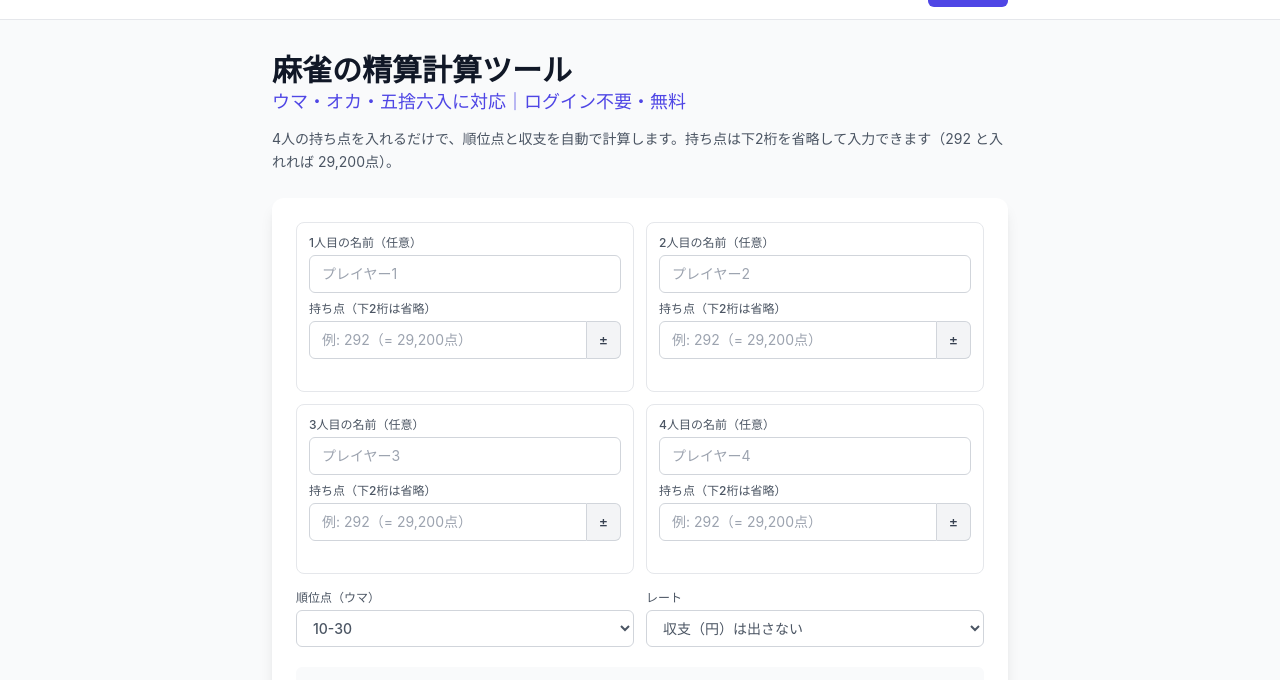
it: Landing（ログイン不要の精算計算ツール） › 「持ち点をクリア」で結果が消える
Step 1. Type "360" into the 1st field labelled "持ち点（下2桁は省略）" → coordinates (448, 340), box top-left (309, 320), bottom-right (587, 358)
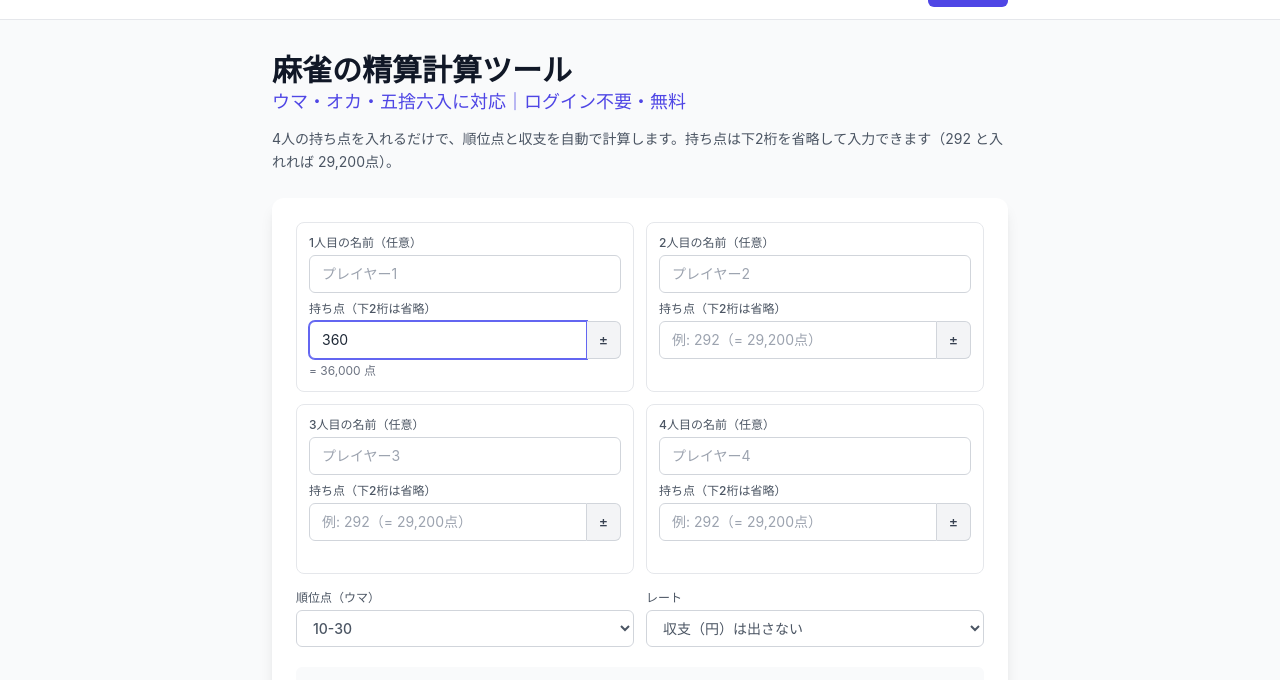
Step 2. Type "490" into the 2nd field labelled "持ち点（下2桁は省略）" → coordinates (798, 340), box top-left (659, 320), bottom-right (937, 358)
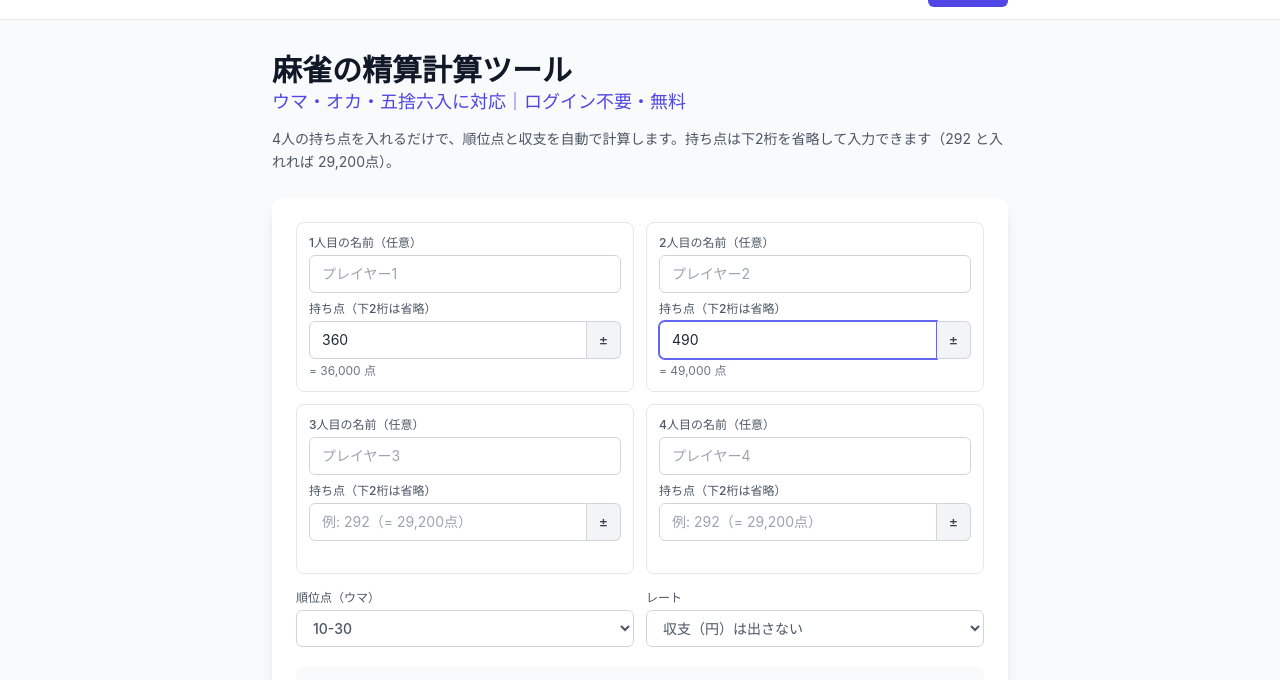
Step 3. Type "200" into the 3rd field labelled "持ち点（下2桁は省略）" → coordinates (448, 522), box top-left (309, 502), bottom-right (587, 540)
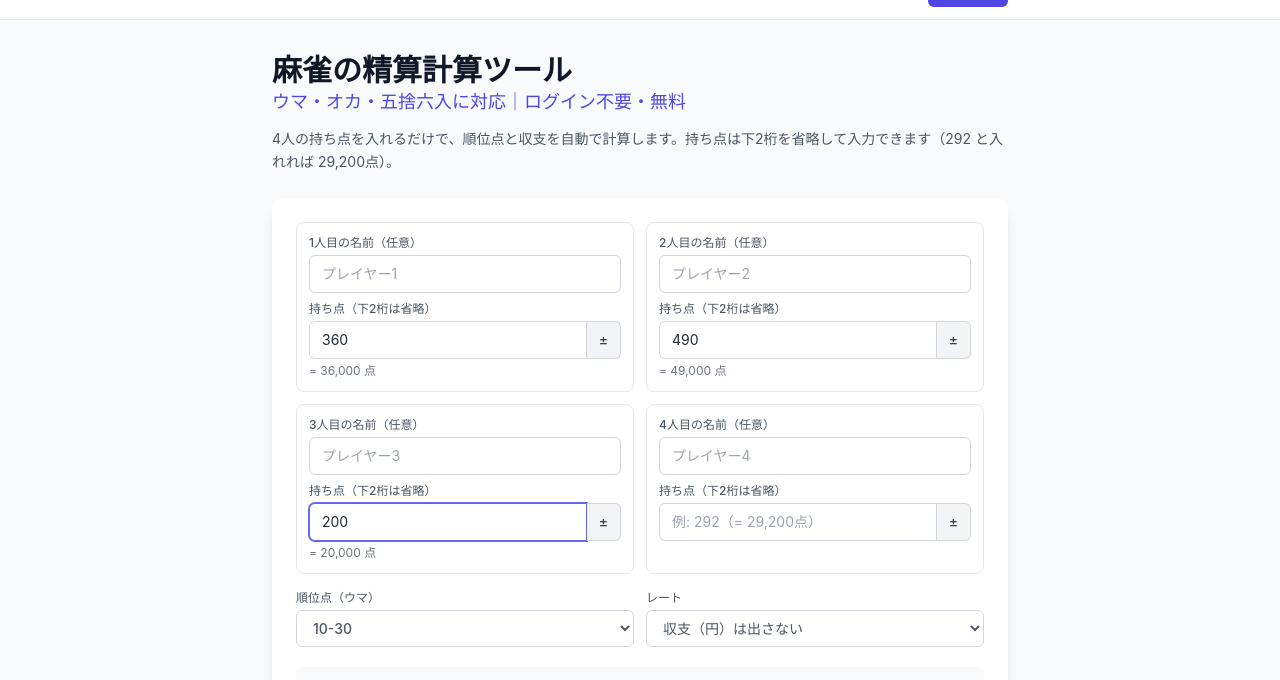
Step 4. Type "-50" into the 4th field labelled "持ち点（下2桁は省略）" → coordinates (798, 522), box top-left (659, 502), bottom-right (937, 540)
(page scrolled)
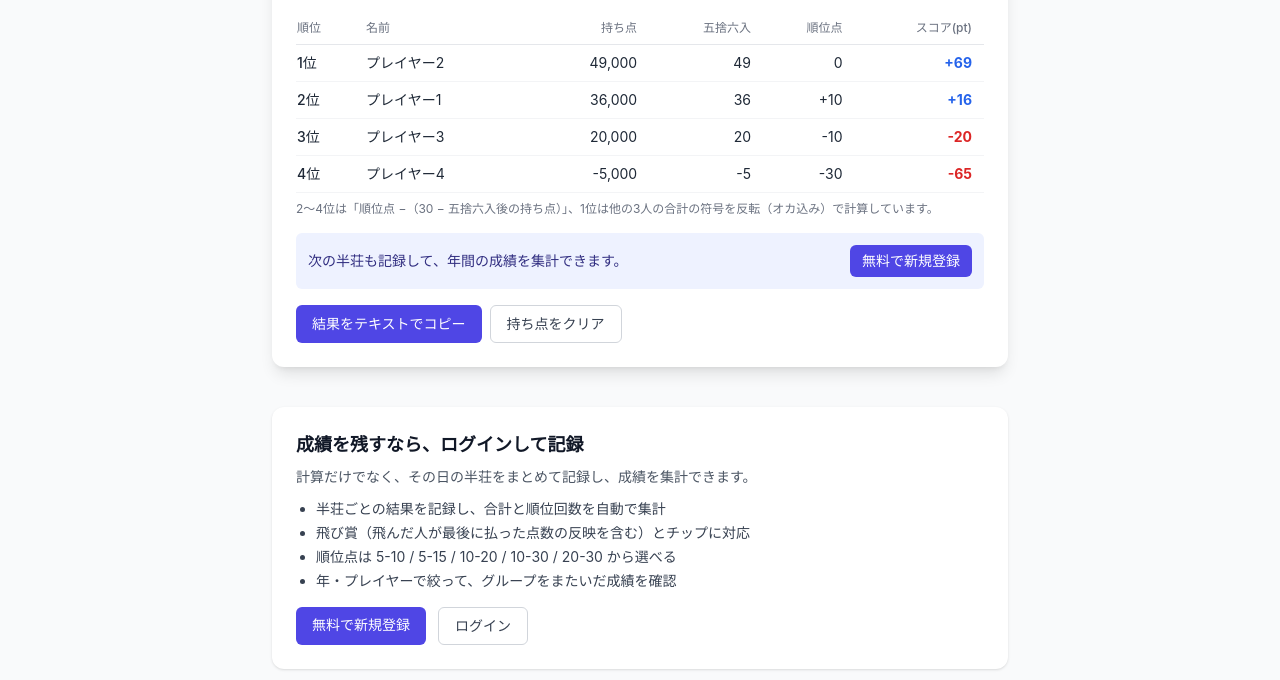
Now the table is shown, box top-left (296, 12), bottom-right (984, 192)
Step 5. Click the button "持ち点をクリア" → coordinates (556, 324), box top-left (490, 304), bottom-right (622, 342)
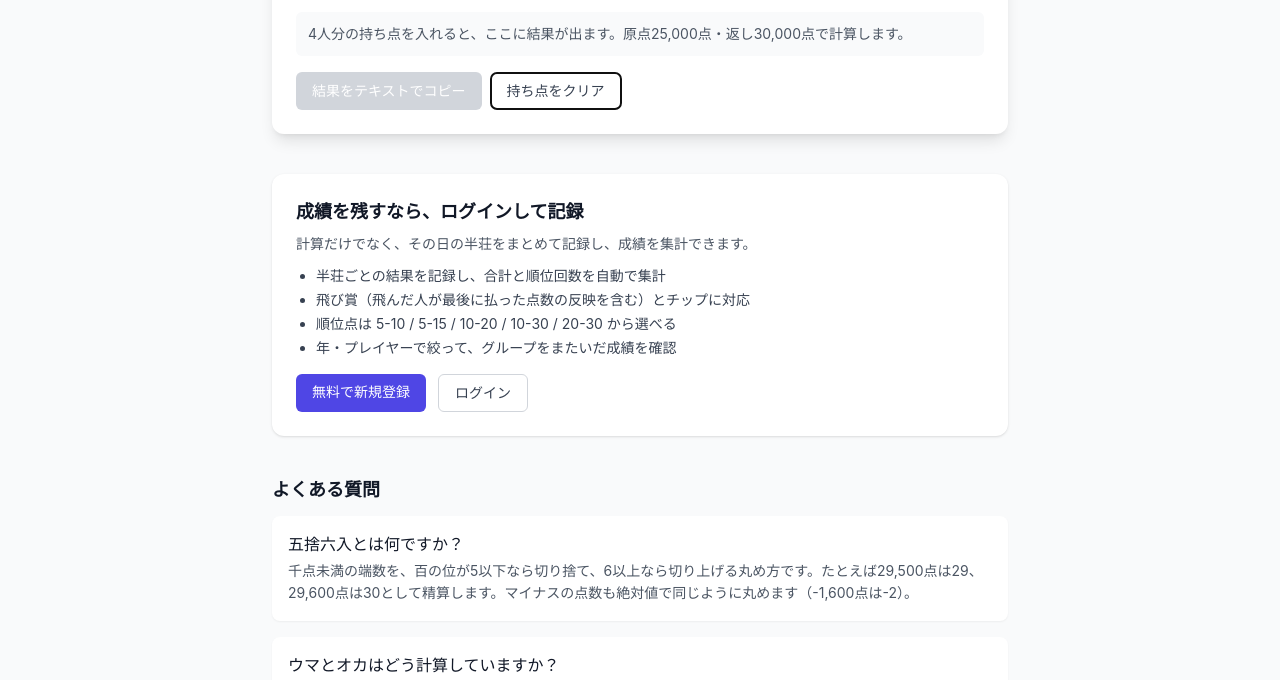
Now the table is gone
